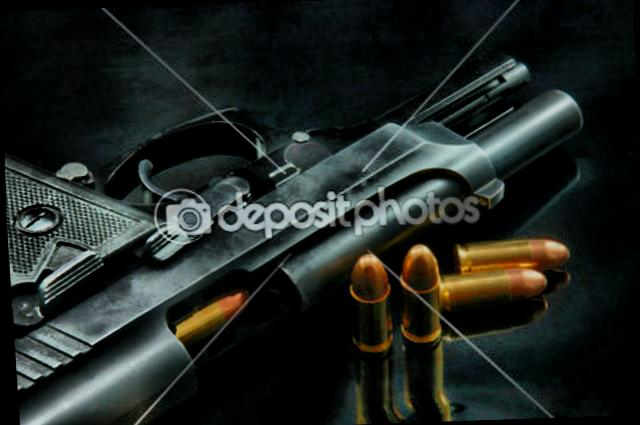pistol: (1, 47, 627, 425)
